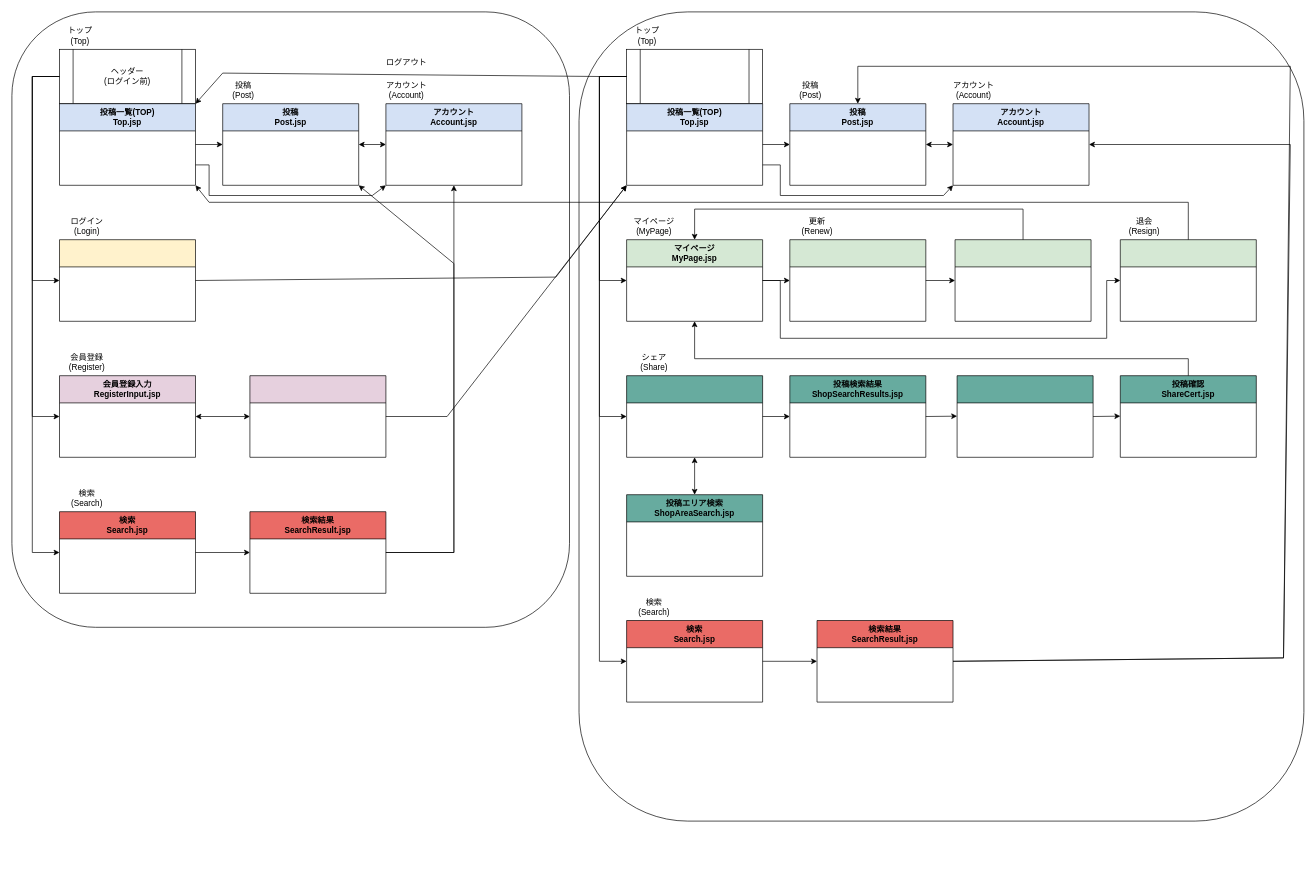
Some shapes in this 1316 by 886 pixel diagram are drawn without their labels. The shapes that lost their labels are listed below. From the top down, each one's box as (x1, y1, x2, y2) in pixels, then its label:
(626, 49, 763, 104): ヘッダー (ログイン後)
(59, 239, 196, 321): ログイン Login.jsp
(789, 239, 926, 321): 会員情報更新入力 RenewInput.jsp
(954, 239, 1091, 321): 会員情報更新確認 RenewCert.jsp
(1120, 239, 1256, 321): 退会確認 ResignCert.jsp
(249, 375, 386, 457): 会員登録確認 RegisterCert.jsp
(626, 375, 763, 457): 投稿検索 ShopSearch.jsp
(956, 375, 1093, 457): 投稿入力 ShareInput.jsp
